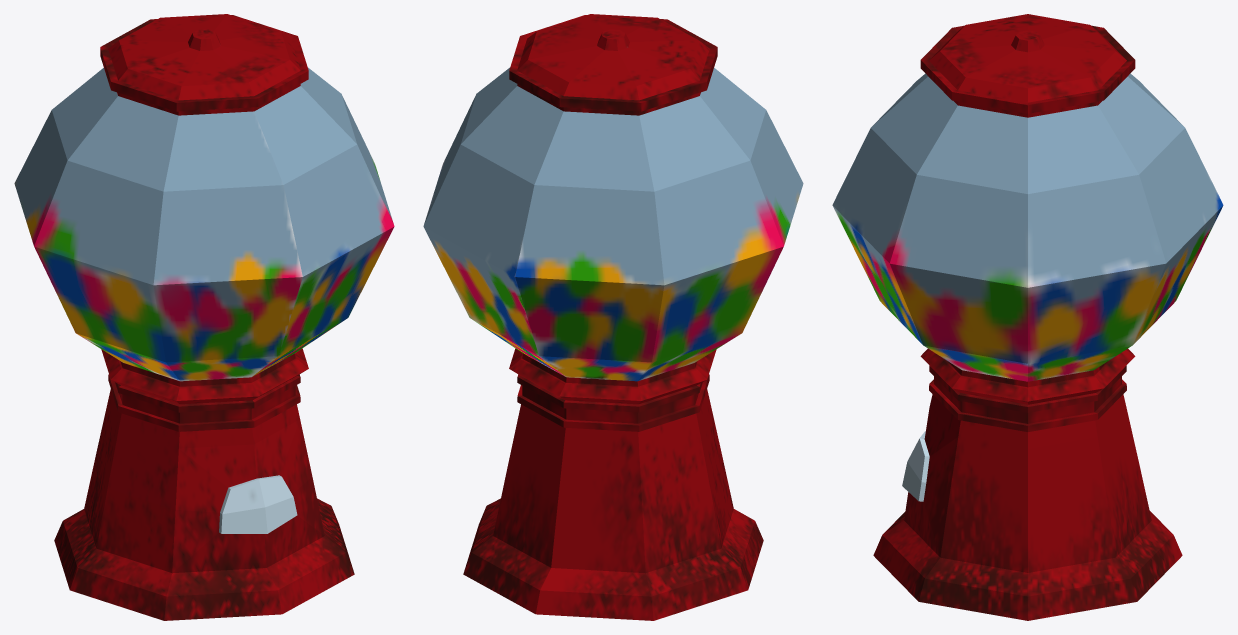
File: MaquinaDeBala.fbx
3 renders of one model, left to right at view 1: azimuth 30°, elevation 25°; view 2: azimuth 150°, elevation 25°; view 3: azimuth 270°, elevation 25°, orthographic.
Parts seen in each view (by area): view 1: MaquinaDeBala; view 2: MaquinaDeBala; view 3: MaquinaDeBala.
Boxes of the visible parts, bbox=[...] form: MaquinaDeBala: bbox=[14, 14, 394, 620]; MaquinaDeBala: bbox=[423, 14, 803, 620]; MaquinaDeBala: bbox=[832, 14, 1223, 620].
Bounding box in the file's own units: 96.98 × 142 × 96.98.
